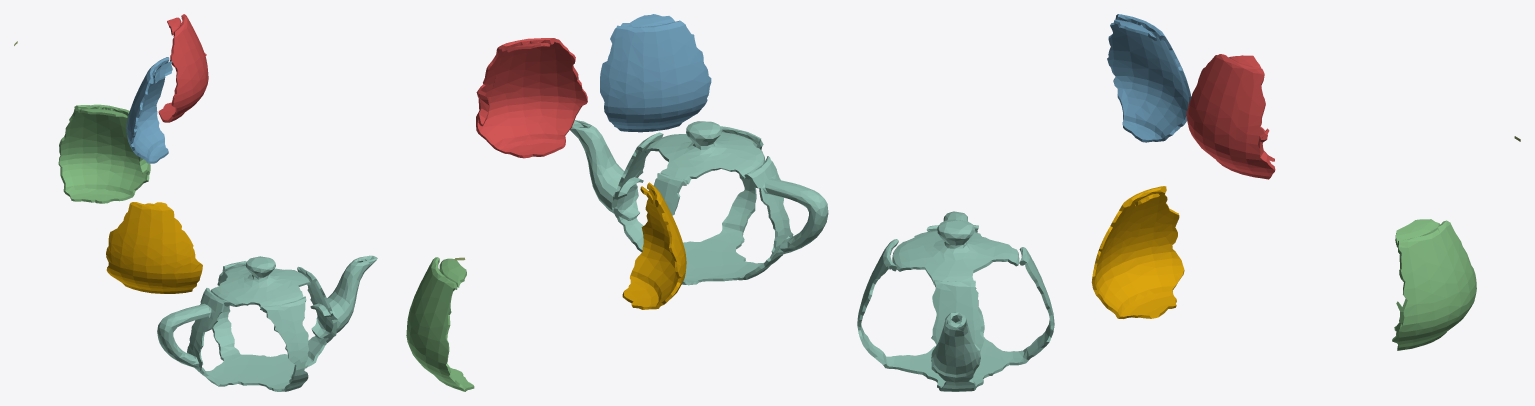
Rendered from mode_6_6pcs_transformed.glb.
3 views of the same model, side by side, from view 1: azimuth 30°, elevation 25°; view 2: azimuth 150°, elevation 25°; view 3: azimuth 270°, elevation 25° (orthographic). The views are drawn at different scales.
Parts seen in each view (by area): view 1: piece_4.obj, piece_3.obj, piece_0.obj, piece_1.obj, piece_2.obj; view 2: piece_4.obj, piece_2.obj, piece_1.obj, piece_3.obj, piece_0.obj; view 3: piece_4.obj, piece_0.obj, piece_3.obj, piece_1.obj, piece_2.obj.
Boxes of the visible parts, left/top/right/bottom form: piece_4.obj: left=157, top=255, right=377, bottom=391; piece_3.obj: left=58, top=104, right=150, bottom=203; piece_0.obj: left=106, top=202, right=202, bottom=293; piece_1.obj: left=158, top=14, right=208, bottom=122; piece_2.obj: left=126, top=57, right=172, bottom=163; piece_4.obj: left=570, top=120, right=828, bottom=285; piece_2.obj: left=600, top=14, right=711, bottom=132; piece_1.obj: left=476, top=38, right=587, bottom=158; piece_3.obj: left=406, top=257, right=474, bottom=391; piece_0.obj: left=622, top=182, right=686, bottom=309; piece_4.obj: left=857, top=211, right=1054, bottom=391; piece_0.obj: left=1091, top=186, right=1184, bottom=318; piece_3.obj: left=1392, top=219, right=1476, bottom=350; piece_1.obj: left=1186, top=54, right=1275, bottom=179; piece_2.obj: left=1107, top=14, right=1191, bottom=142.
Size of the model in its own units: 1 by 1.14 by 2.1.
